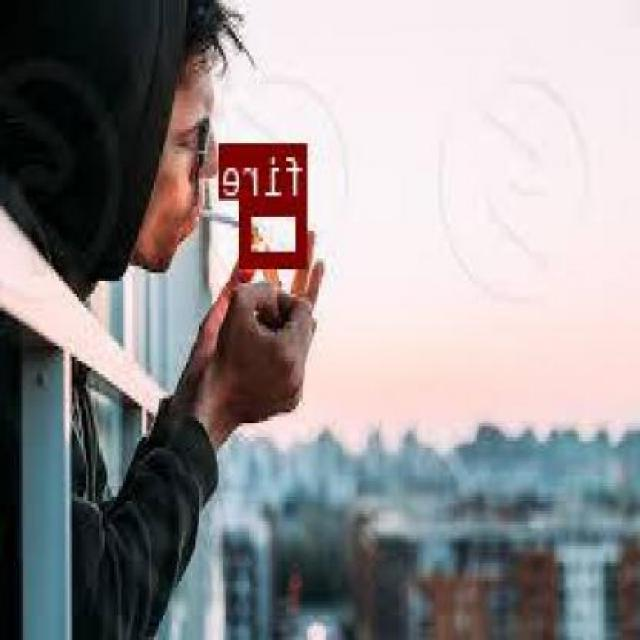fire: (242, 197, 308, 265)
